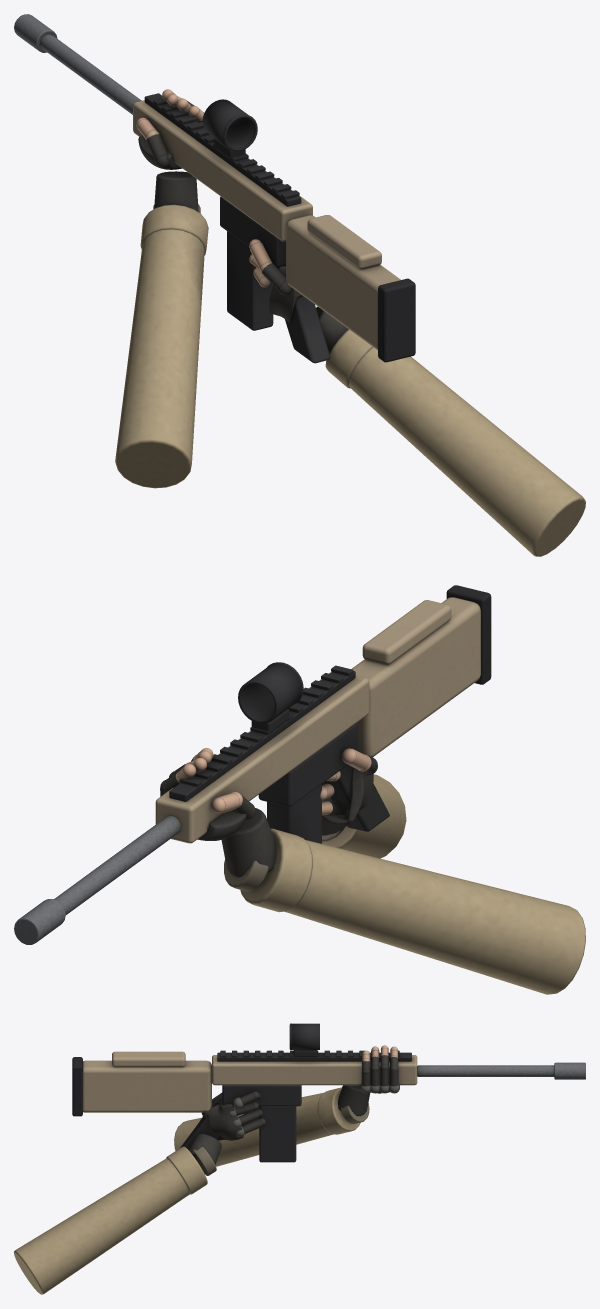
The model's file is kamp.glb.
The picture shows the model from 3 angles, top to bottom: view 1: azimuth 30°, elevation 25°; view 2: azimuth 150°, elevation 25°; view 3: azimuth 270°, elevation 25°; orthographic projection. The views are drawn at different scales.
Visible parts, largest first — view 1: hænder, kamp; view 2: kamp, hænder; view 3: kamp, hænder.
Part boxes in pixels (x1=…): hænder: x1=115, y1=89, x2=585, y2=556; kamp: x1=14, y1=14, x2=415, y2=363; kamp: x1=14, y1=585, x2=491, y2=944; hænder: x1=160, y1=748, x2=585, y2=994; kamp: x1=72, y1=1023, x2=585, y2=1162; hænder: x1=14, y1=1045, x2=399, y2=1294.
Bounding box in the file's own units: 0.5162 × 0.4762 × 1.09.
Materials: 2 (2 with a texture image).
